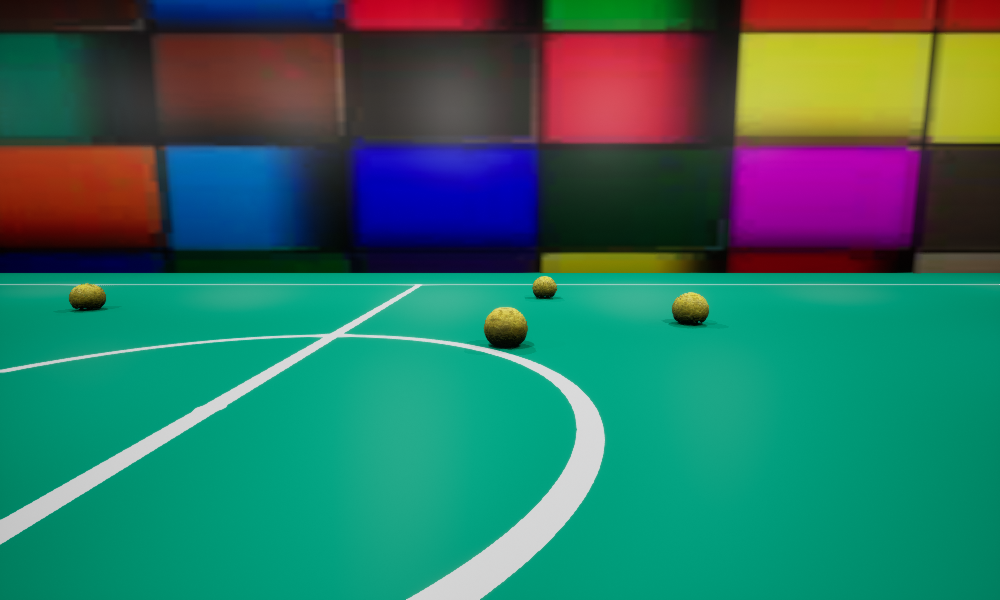b: (484, 307, 527, 347), (672, 292, 708, 324), (69, 283, 105, 310), (532, 276, 556, 298)
